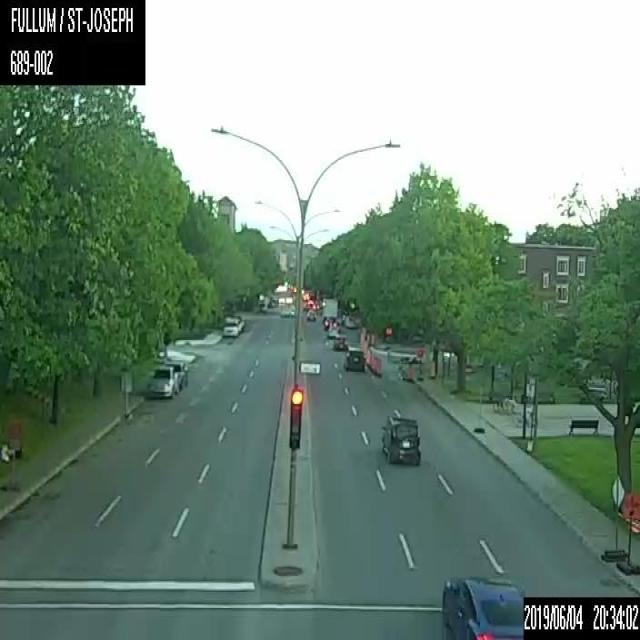construction: (600, 474, 628, 562), (616, 489, 639, 575), (416, 347, 423, 380), (376, 357, 382, 376)
vehicle: (440, 570, 523, 638), (380, 414, 420, 462), (146, 363, 178, 399), (166, 360, 188, 390), (343, 344, 365, 372), (321, 296, 337, 323), (222, 316, 239, 337), (332, 334, 348, 350), (306, 308, 316, 320)
